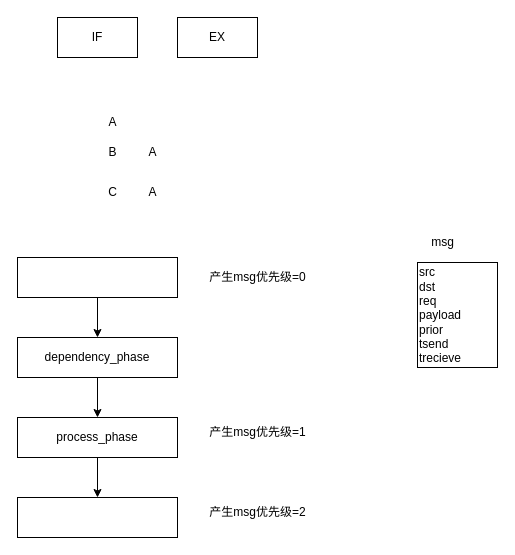
Image size: 515x555. Some labels were removed from this diagram. The shapes that lost their labels are listed below. From the top down, each one's centre as x and y in pixels, then its label:
(x=97, y=277): send_phase
(x=97, y=517): resp_phase
